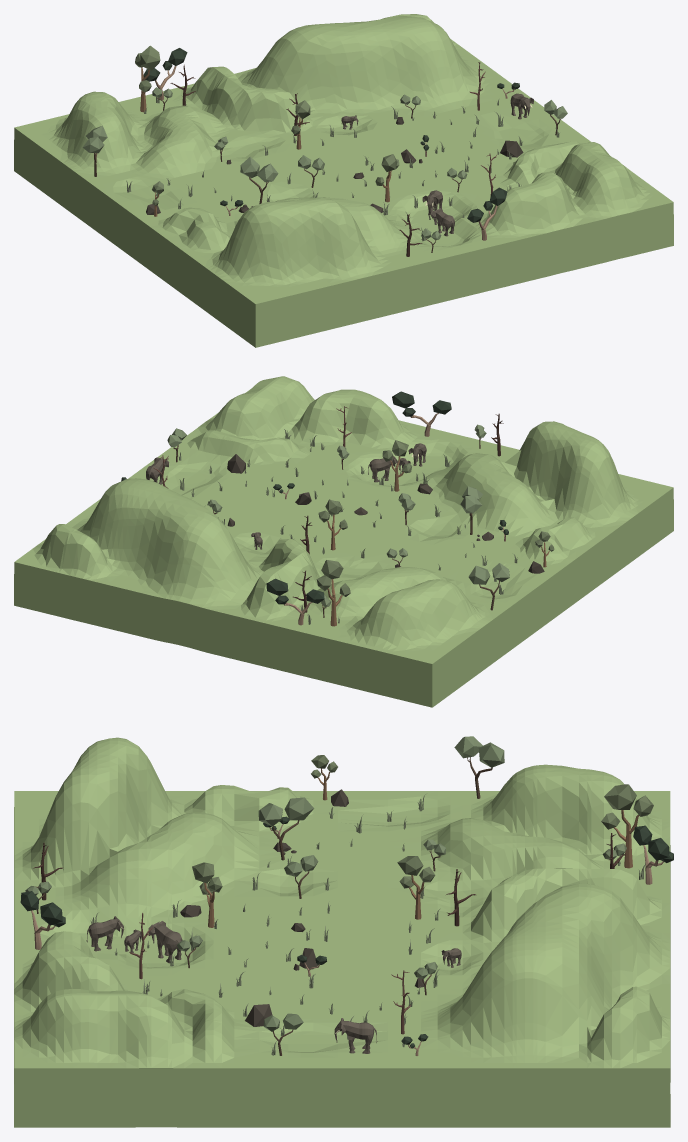
File: floor.glb
3 views of the same model, one above another, from view 1: azimuth 30°, elevation 25°; view 2: azimuth 150°, elevation 25°; view 3: azimuth 270°, elevation 25° (orthographic). The views are drawn at different scales.
Parts seen in each view (by area): view 1: Environment_Ground_geo, Tree_geo_014, Tree_geo_011, Tree_geo_018, Tree_geo_015, Tree_geo_013; view 2: Environment_Ground_geo, Tree_geo_014, Tree_geo_015, Tree_geo_011, Tree_geo_013, Tree_geo_01, Tree_geo_012, Tree_geo_018; view 3: Environment_Ground_geo, Elephant_geo (×3), Tree_geo_014, Tree_geo_018, Tree_geo_013, Tree_geo_011, Tree_geo_015, Tree_geo_012, Tree_geo_01.
Boxes of the visible parts, x1,y1,x2,y2 form: Environment_Ground_geo: [14, 14, 673, 347]; Tree_geo_014: [135, 45, 160, 112]; Tree_geo_011: [467, 187, 507, 240]; Tree_geo_018: [240, 156, 278, 203]; Tree_geo_015: [143, 48, 187, 99]; Tree_geo_013: [82, 125, 107, 176]; Environment_Ground_geo: [14, 376, 673, 707]; Tree_geo_014: [316, 560, 350, 626]; Tree_geo_015: [266, 578, 324, 625]; Tree_geo_011: [392, 391, 451, 436]; Tree_geo_013: [468, 563, 509, 610]; Tree_geo_01: [382, 440, 411, 491]; Tree_geo_012: [318, 499, 347, 550]; Tree_geo_018: [460, 486, 482, 534]; Environment_Ground_geo: [14, 737, 670, 1127]; Elephant_geo (×3): [86, 916, 377, 1053]; Tree_geo_014: [601, 784, 653, 868]; Tree_geo_018: [258, 797, 313, 860]; Tree_geo_013: [454, 736, 504, 798]; Tree_geo_011: [20, 891, 65, 949]; Tree_geo_015: [633, 825, 673, 884]; Tree_geo_012: [397, 856, 435, 919]; Tree_geo_01: [192, 862, 222, 927].
Bounding box in the file's own units: 49.69 × 12.06 × 49.44.
Materials: 11 (6 with a texture image).
